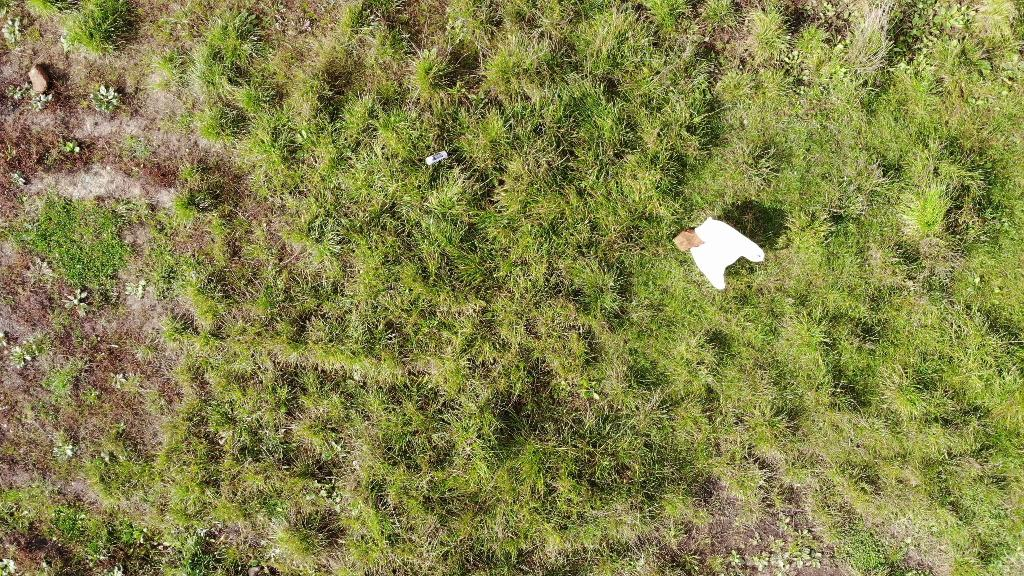garbage: (668, 216, 767, 296), (691, 216, 765, 290), (424, 150, 449, 165)
